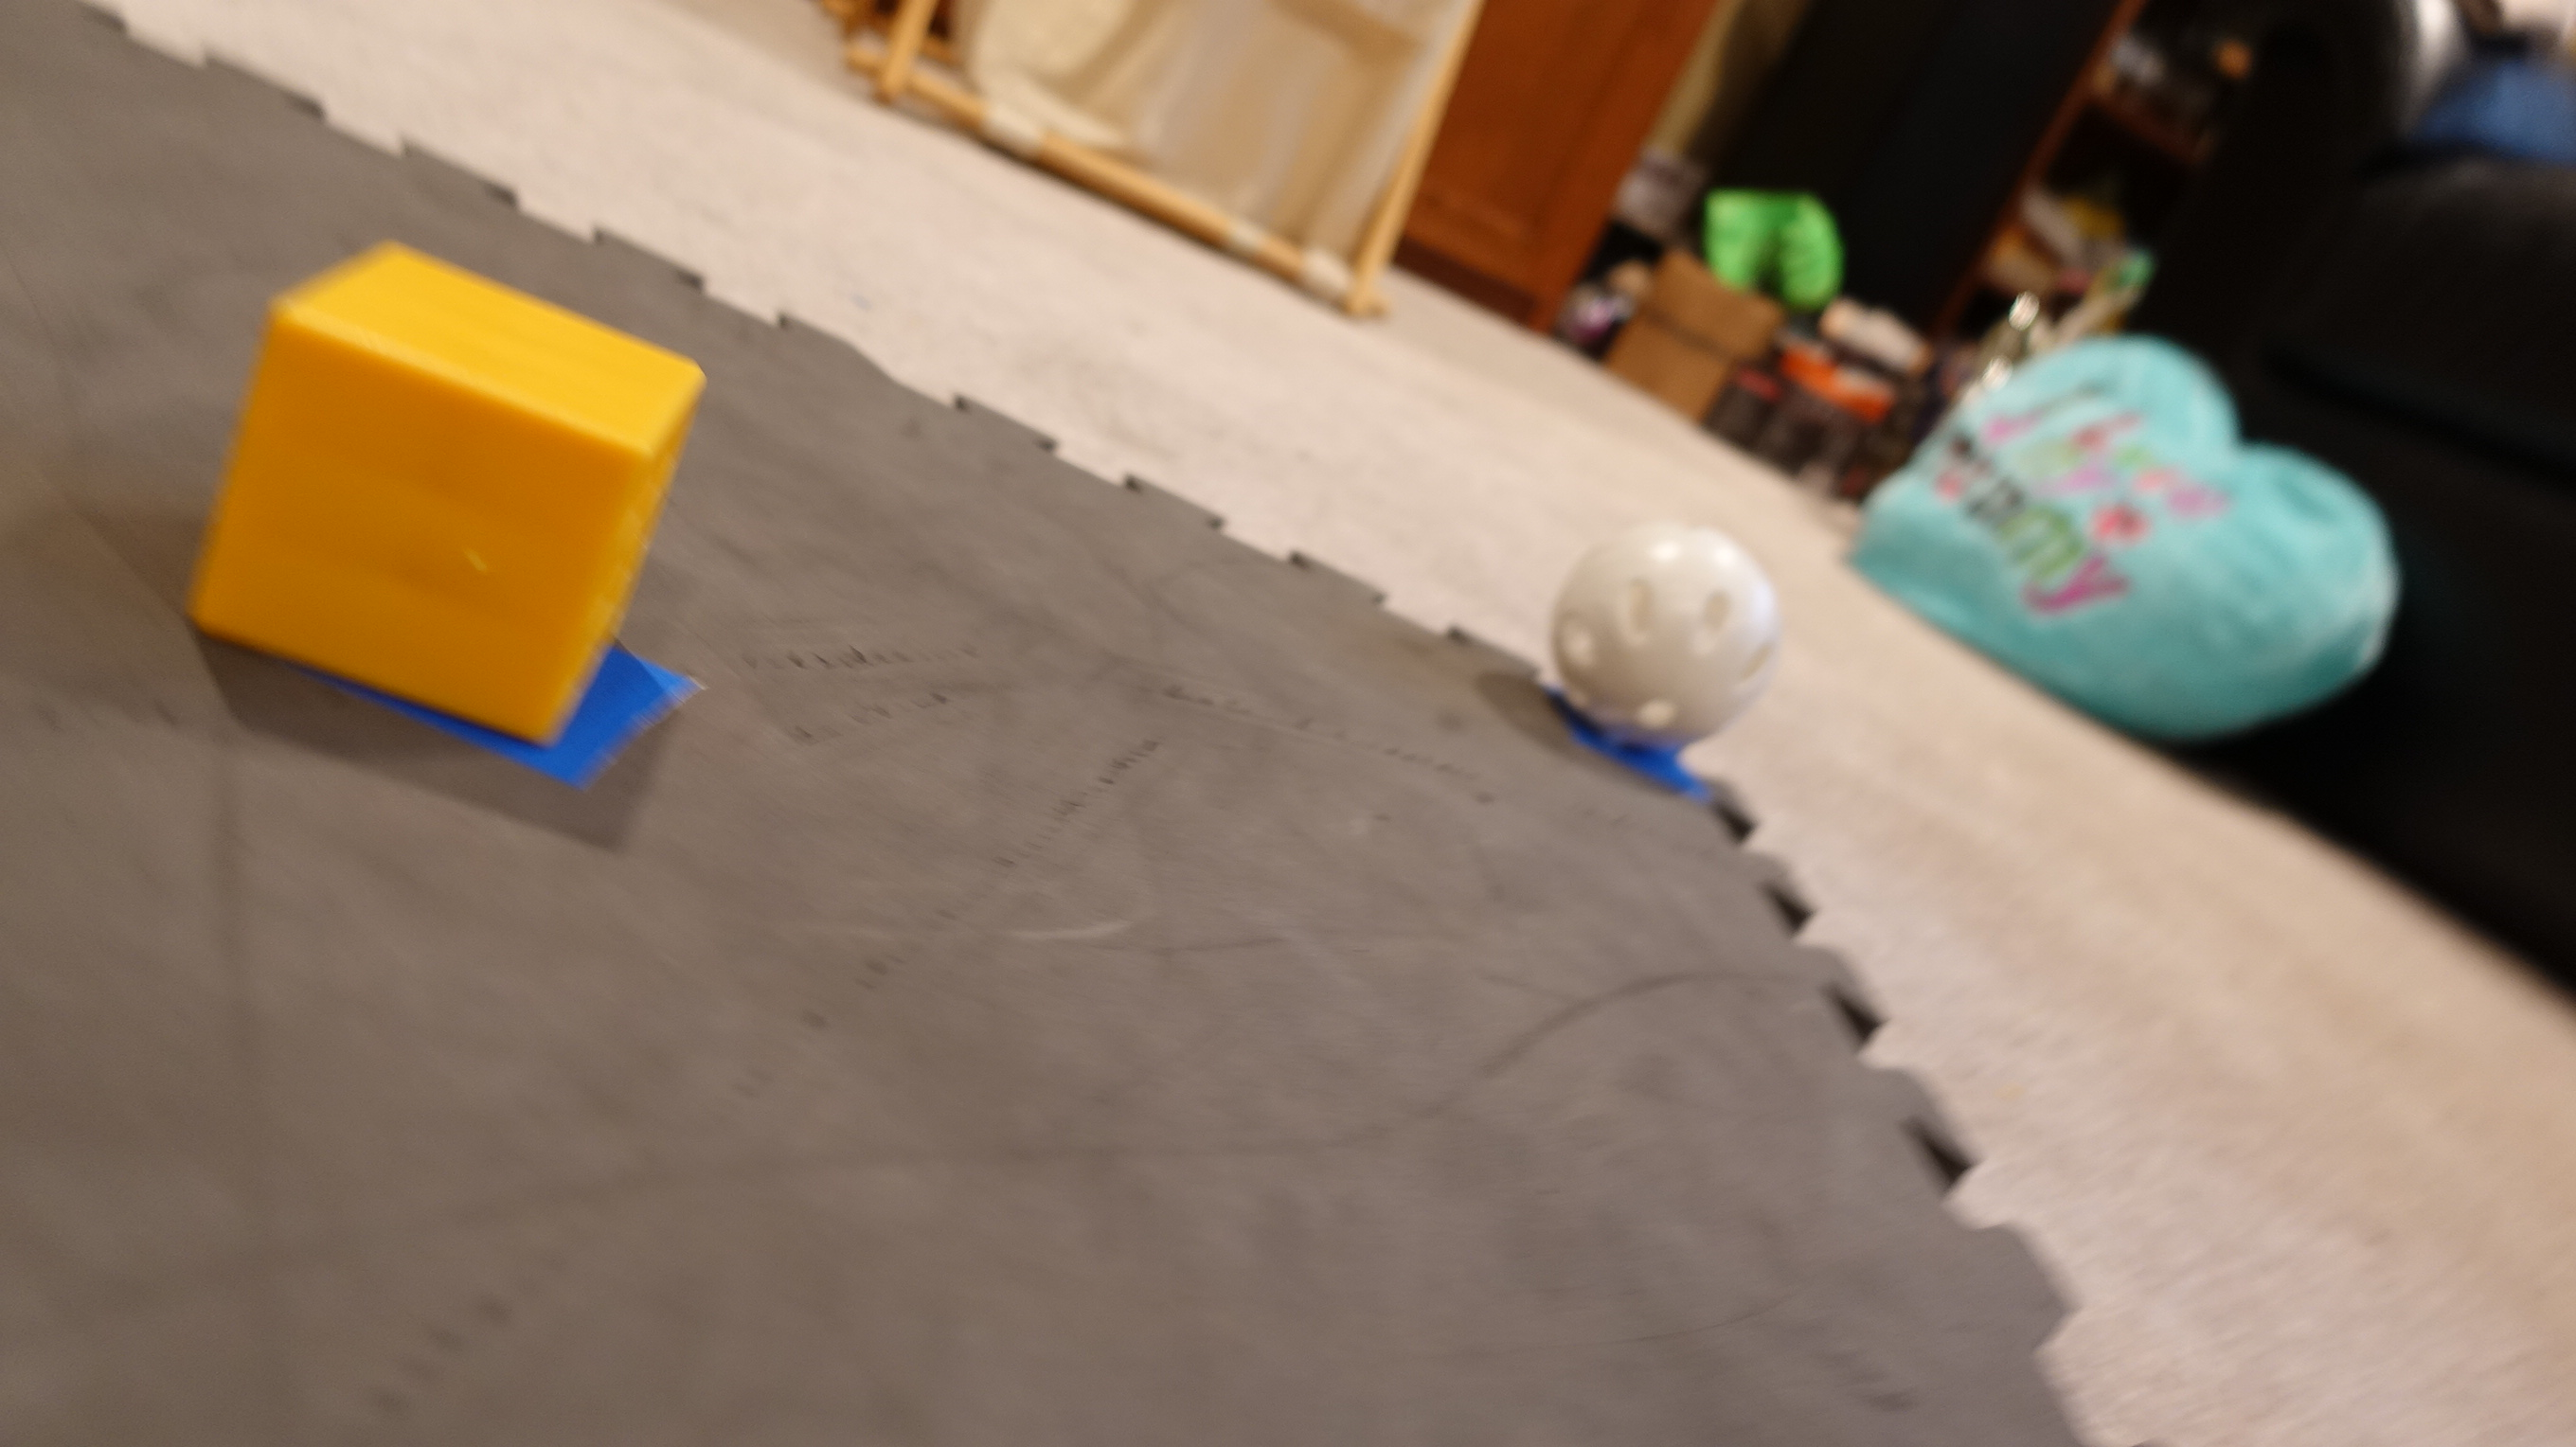gold: (177, 230, 713, 743)
silver: (1532, 517, 1782, 752)
